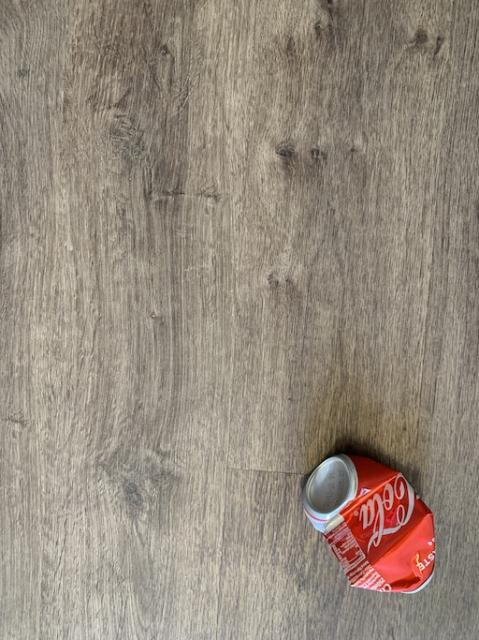metal: (302, 454, 434, 591)
